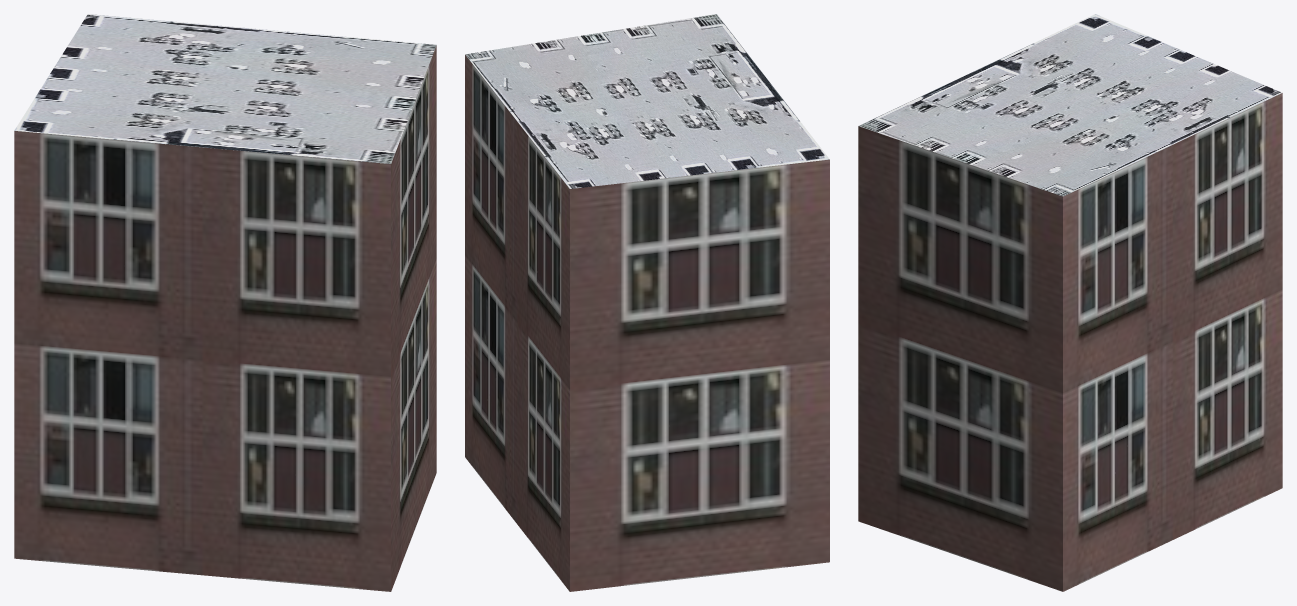
Rendered from ResTex__5205.fbx.
The picture shows the model from 3 angles, left to right: view 1: azimuth 30°, elevation 25°; view 2: azimuth 150°, elevation 25°; view 3: azimuth 270°, elevation 25°; orthographic projection. The views are drawn at different scales.
Parts seen in each view (by area): view 1: CityEngineMaterial_12_m, CityEngineMaterial_8_m; view 2: CityEngineMaterial_12_m, CityEngineMaterial_8_m; view 3: CityEngineMaterial_12_m, CityEngineMaterial_8_m.
Boxes of the visible parts, x1,y1,x2,y2 form: CityEngineMaterial_12_m: (14,46,436,591); CityEngineMaterial_8_m: (14,14,436,163); CityEngineMaterial_12_m: (465,55,829,591); CityEngineMaterial_8_m: (465,14,829,188); CityEngineMaterial_12_m: (858,93,1282,591); CityEngineMaterial_8_m: (859,14,1282,196).
Bounding box in the file's own units: 5.95 × 6 × 5.84.
Materials: 2 (2 with a texture image).
